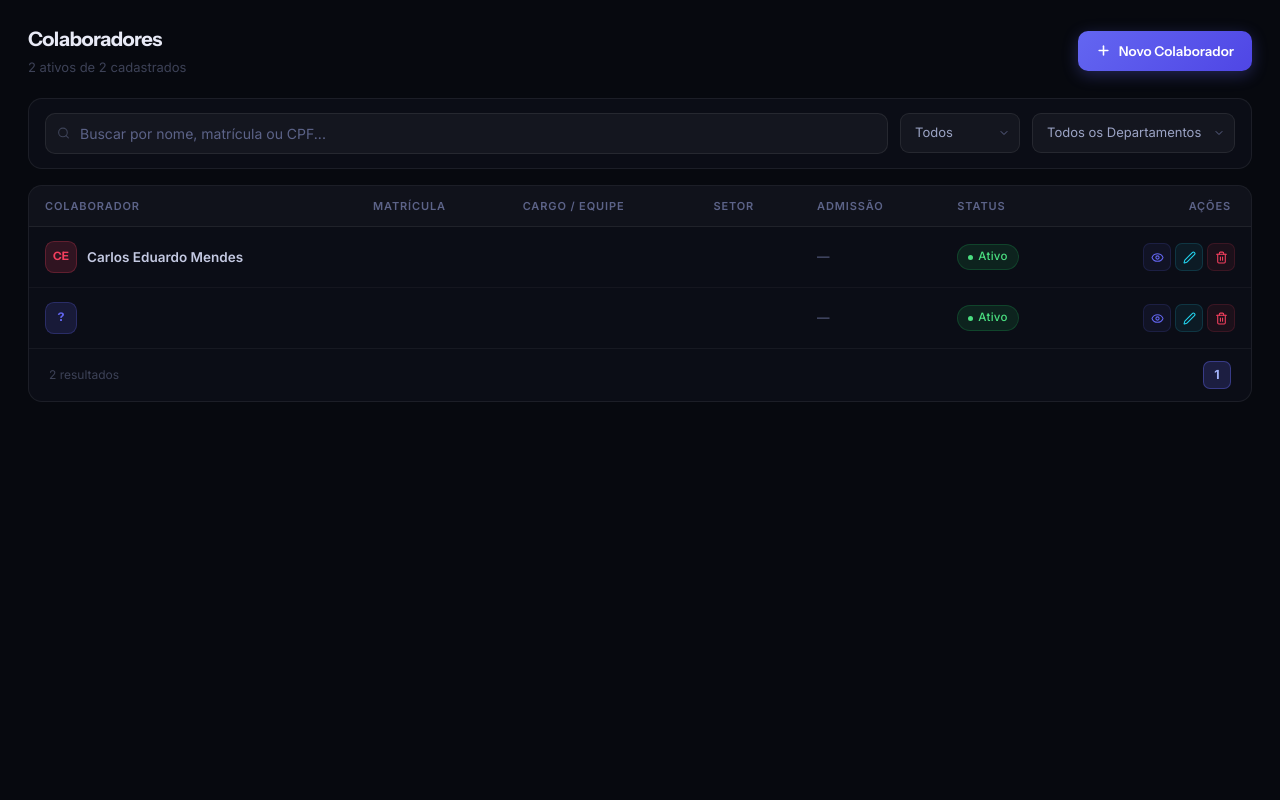
Employees — colaboradores com colunas nulas › exibe o modal de edição com valores seguros
Click the button titled "Editar" in the row of "CE": (1189, 257) [1175,243,1203,271]
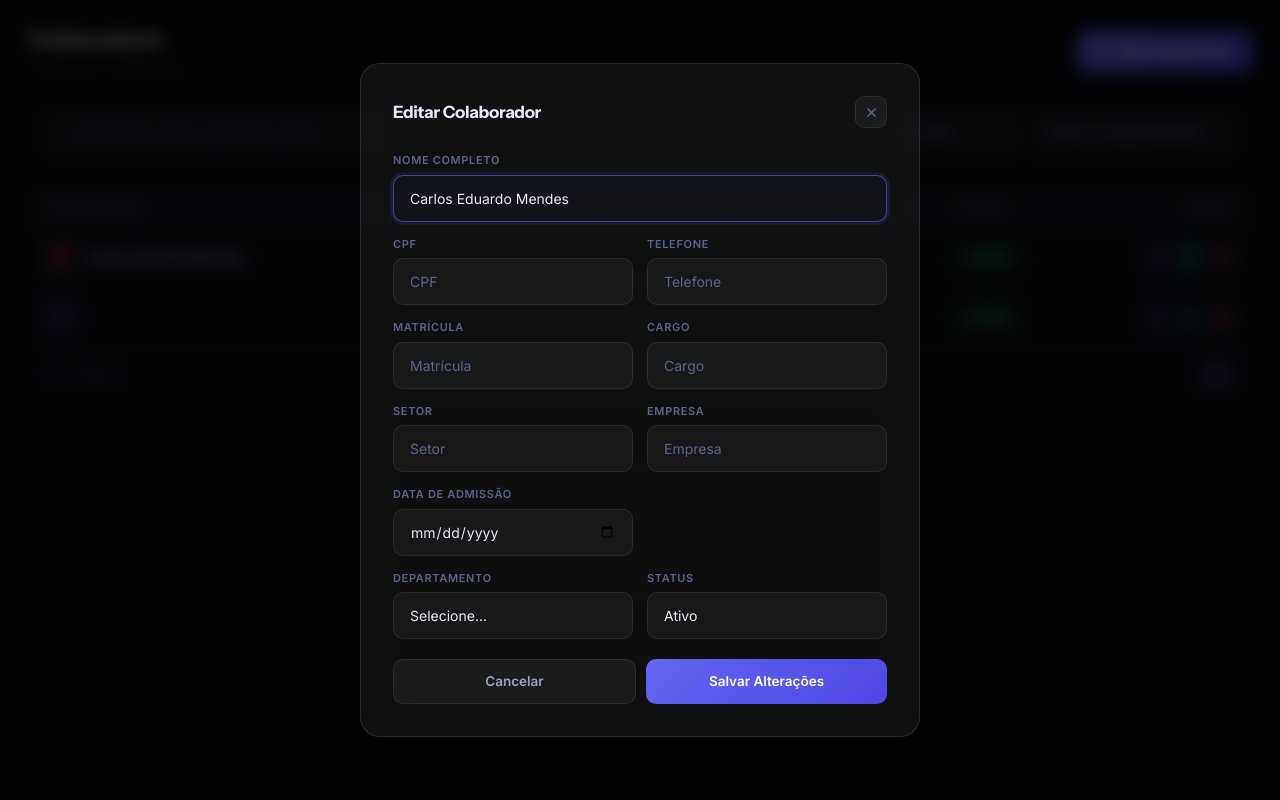
Check: the dialog with class "modal-overlay" is shown
Check: the field with placeholder "Nome Completo" holds "Carlos Eduardo Mendes", box [393,175,887,222]
Check: the field with placeholder "CPF" is empty, box [393,258,633,305]
